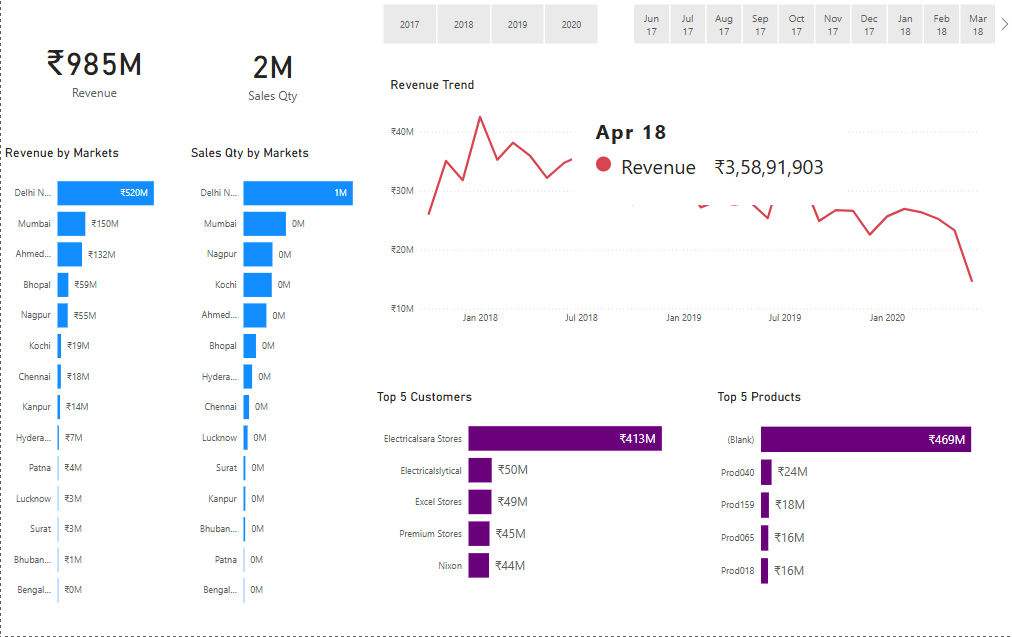

The dashboard page shown, as its layout file describes it:
{"tool":"powerbi","page":{"name":"Key Insights","canvas":[1350,850],"ordinal":0},"visuals":[{"type":"card","fields":{"Values":["BaseMeasures (2).Revenue"]},"box":[0,0,247.9,184.6],"z":0},{"type":"card","fields":{"Values":["BaseMeasures (2).Sales Qty"]},"box":[247.9,0,227.9,193.1],"z":1000},{"type":"barChart","title":"Revenue by Markets","fields":{"Y":["BaseMeasures (2).Revenue"],"Category":["sales markets.markets_name"]},"box":[0,193.1,247.9,631.9],"z":2000},{"type":"barChart","title":"Sales Qty by Markets","fields":{"Y":["BaseMeasures (2).Sales Qty"],"Category":["sales markets.markets_name"]},"box":[247.9,193.1,247.9,631.9],"z":3000},{"type":"slicer","fields":{"Values":["sales date.year"]},"box":[483.2,0,335.5,66.5],"z":4000},{"type":"slicer","fields":{"Values":["sales date.cy_date"]},"box":[818.6,0,531.7,66.5],"z":5000},{"type":"barChart","title":"Top 5 Customers","fields":{"Y":["BaseMeasures (2).Revenue"],"Category":["sales customers.custmer_name"]},"box":[495.8,519,446.2,274.3],"z":6000},{"type":"barChart","title":"Top 5 Products","fields":{"Y":["BaseMeasures (2).Revenue"],"Category":["sales products.product_code"]},"box":[950.7,519.2,399.5,282.8],"z":7000},{"type":"lineChart","title":"Revenue Trend","fields":{"Y":["BaseMeasures (2).Revenue"],"Category":["sales date.cy_date"]},"box":[513.8,104.4,809.1,338.6],"z":8000}]}

Visuals, with their boxes in screenshot pixels (x1, y1, x2, y2), scaled from the page's 1350x850 canvas onto the 1012x637 screenshot:
card - BaseMeasures (2).Revenue: rect(0, 0, 186, 138)
card - BaseMeasures (2).Sales Qty: rect(186, 0, 357, 145)
"Revenue by Markets" barChart: rect(0, 145, 186, 618)
"Sales Qty by Markets" barChart: rect(186, 145, 372, 618)
slicer - sales date.year: rect(362, 0, 614, 50)
slicer - sales date.cy_date: rect(614, 0, 1011, 50)
"Top 5 Customers" barChart: rect(372, 389, 706, 595)
"Top 5 Products" barChart: rect(713, 389, 1011, 601)
"Revenue Trend" lineChart: rect(385, 78, 992, 332)
